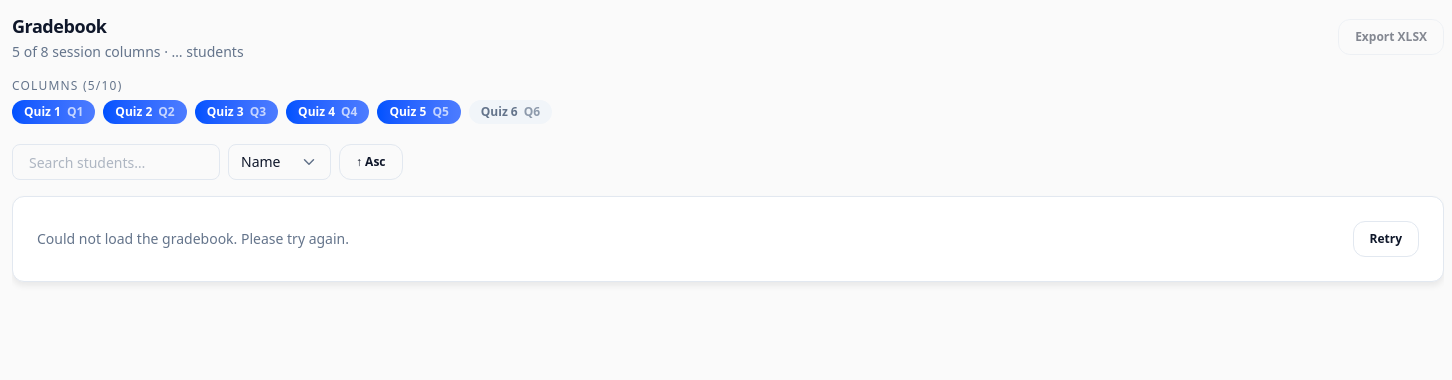
Test: GradebookTab (CLASS-M3) › disables export and offers retry while the matrix is in error
Check: the message "Could not load the gradebook. Please try again." is shown, box [37,229,349,249]
Check: the button "Export XLSX" is disabled, box [1338,19,1444,55]
Click the button "Retry" at (1386, 239), box [1352,221,1419,257]
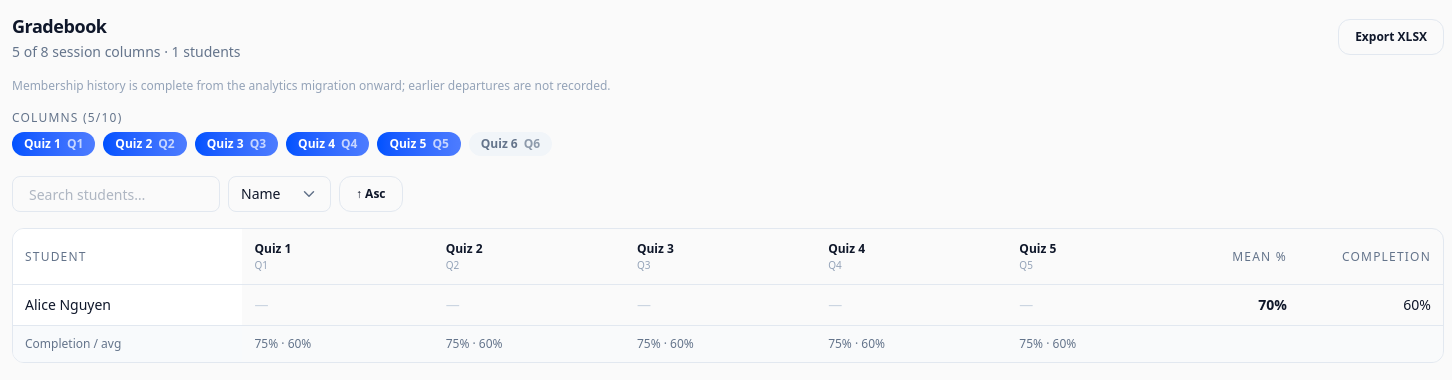
Check: the column heading "Alice Nguyen" is shown, box [13,285,242,326]
